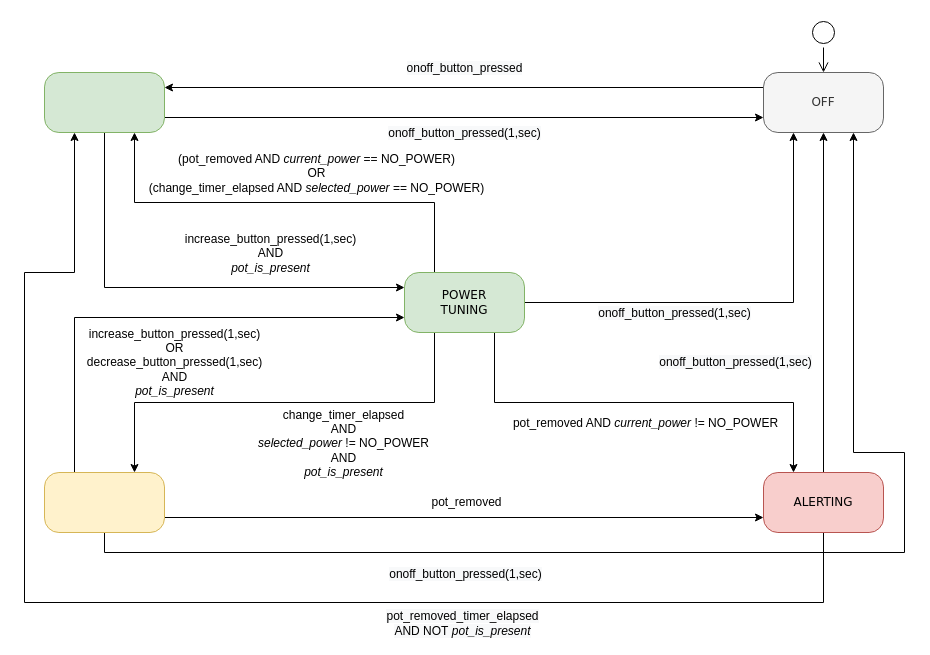
The diagram is 930 pixels wide and 655 high, and some of its shapes have lost their labels. The shapes that lost their labels are listed below. From the top down, each one's box as (x1, y1, x2, y2) in pixels, then its label:
(44, 72, 164, 132): ON
(44, 472, 164, 532): ACTIVE
